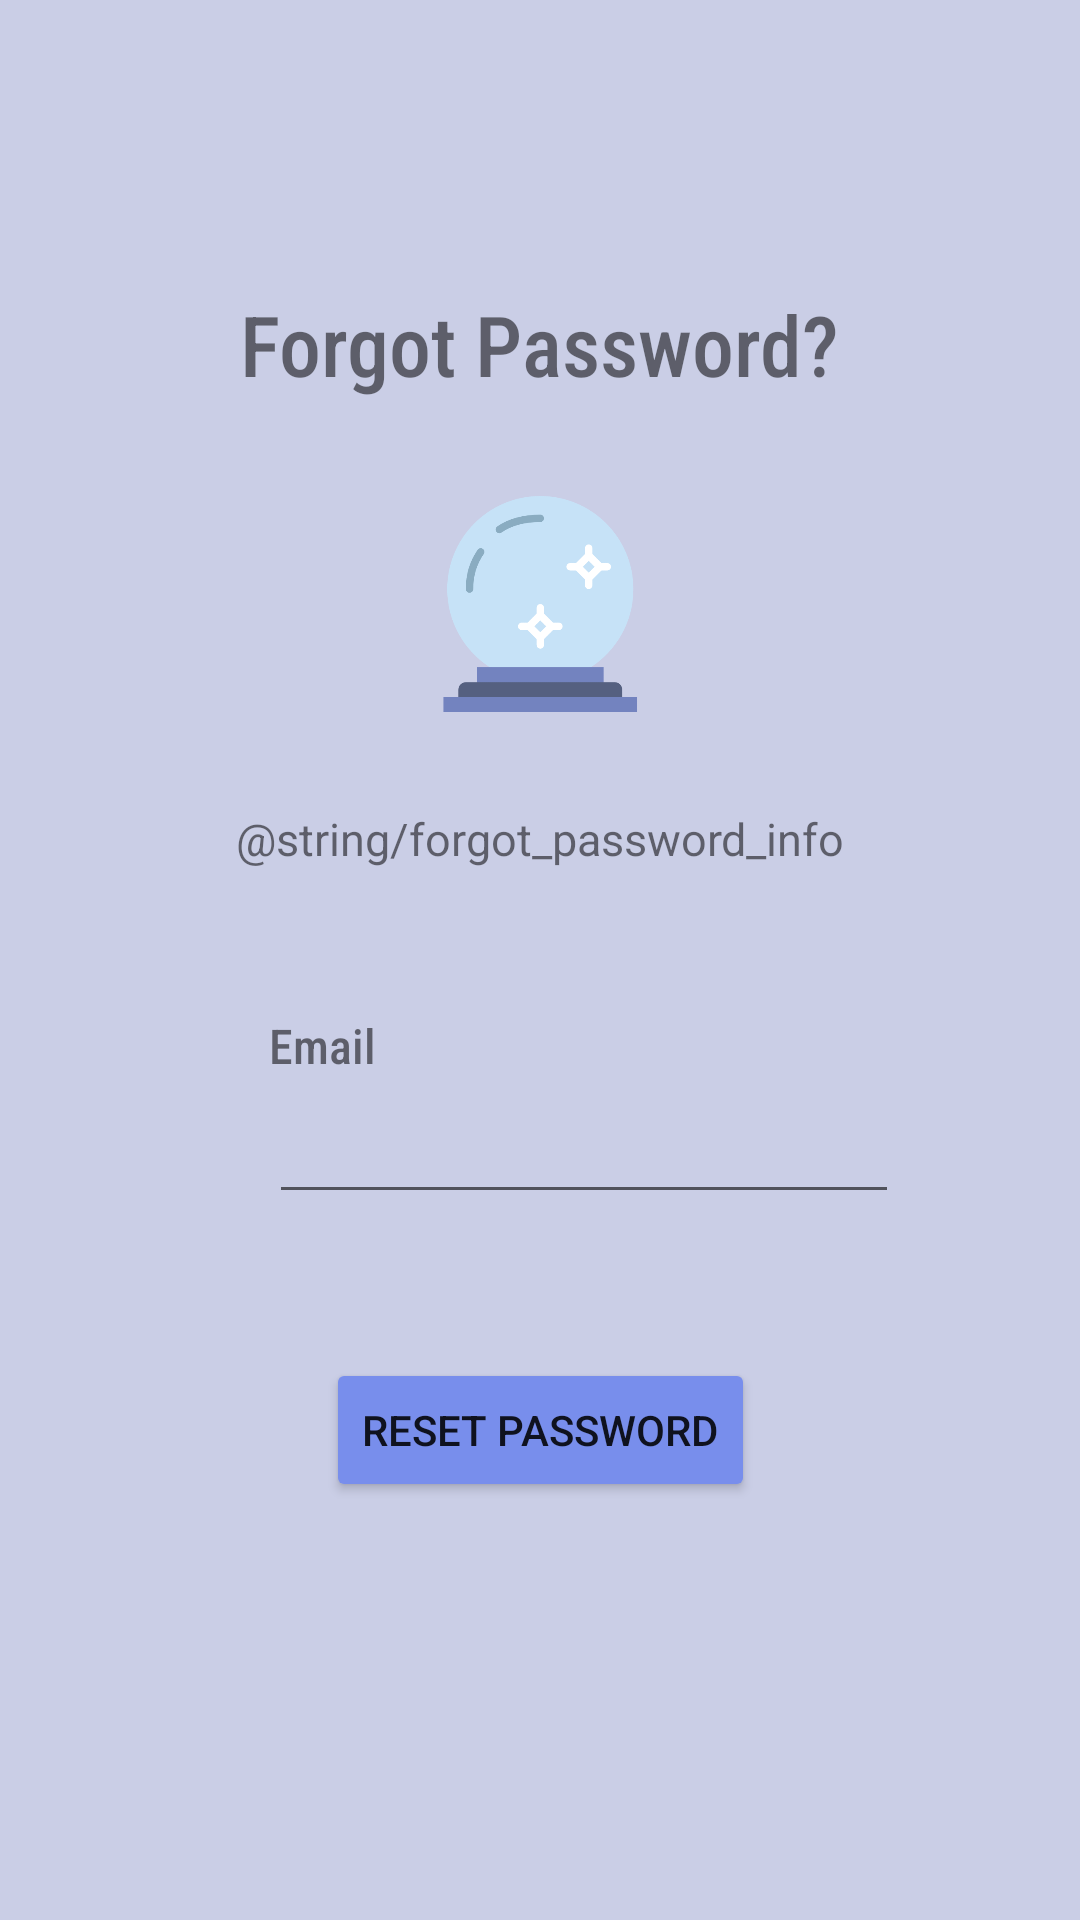

Icon click points for this 1080 x 1920 phone screenshot, format (x,y):
magicball: (540,604)
